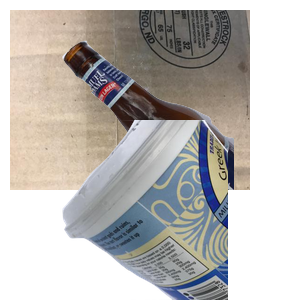cardboard: (10, 10, 250, 190)
glass: (60, 38, 300, 218)
plastic: (60, 120, 300, 300)
trash: (65, 145, 242, 300)
